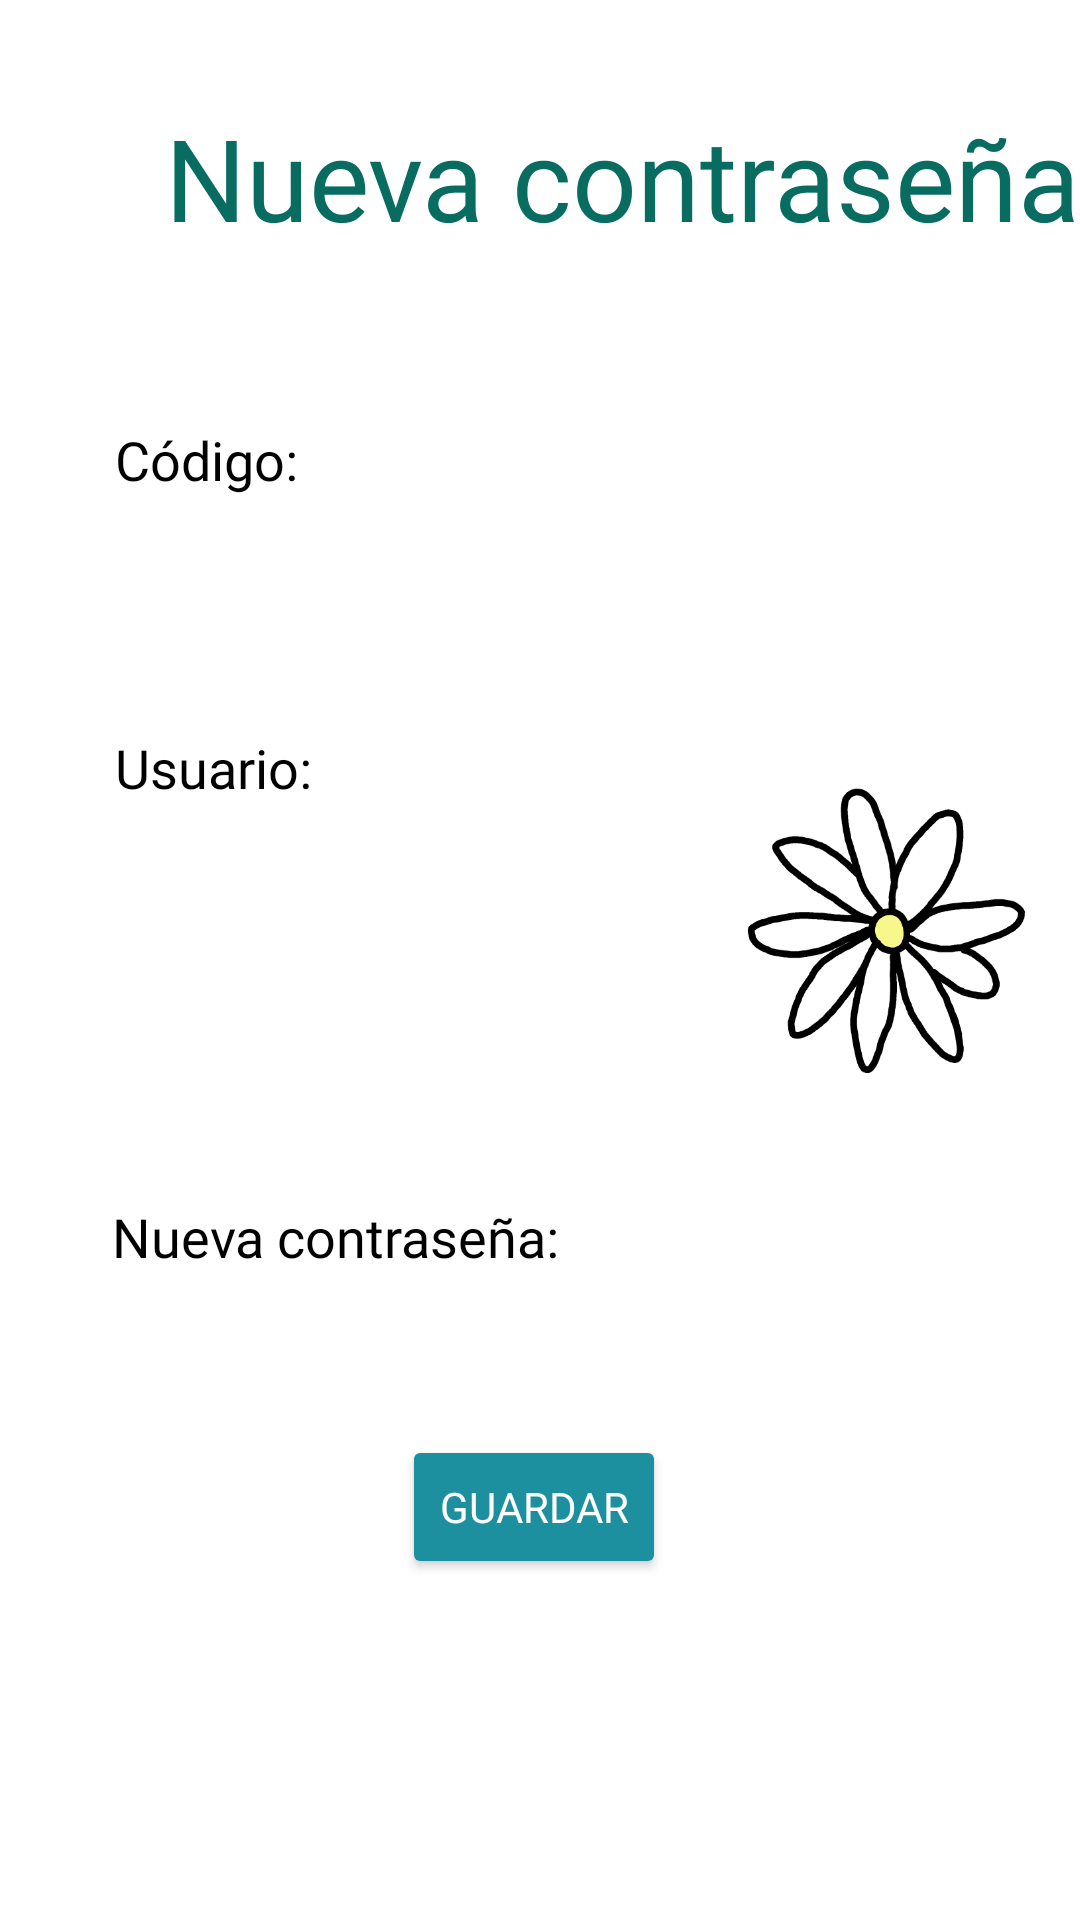

Named icons in this screenshot (1080×1920) and their bounding boxes, (x1, y1, x2, y2):
sticker: (748, 788, 1025, 1073)
